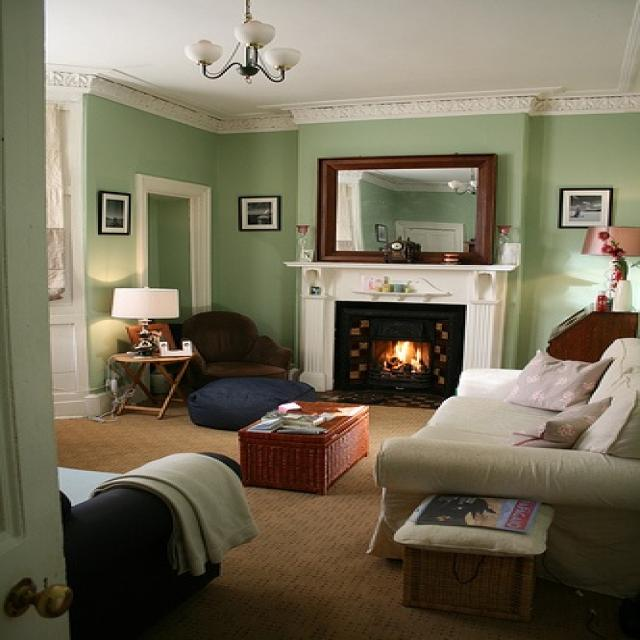chair: (61, 450, 241, 628), (180, 311, 293, 389)
sofa: (366, 339, 637, 601)
